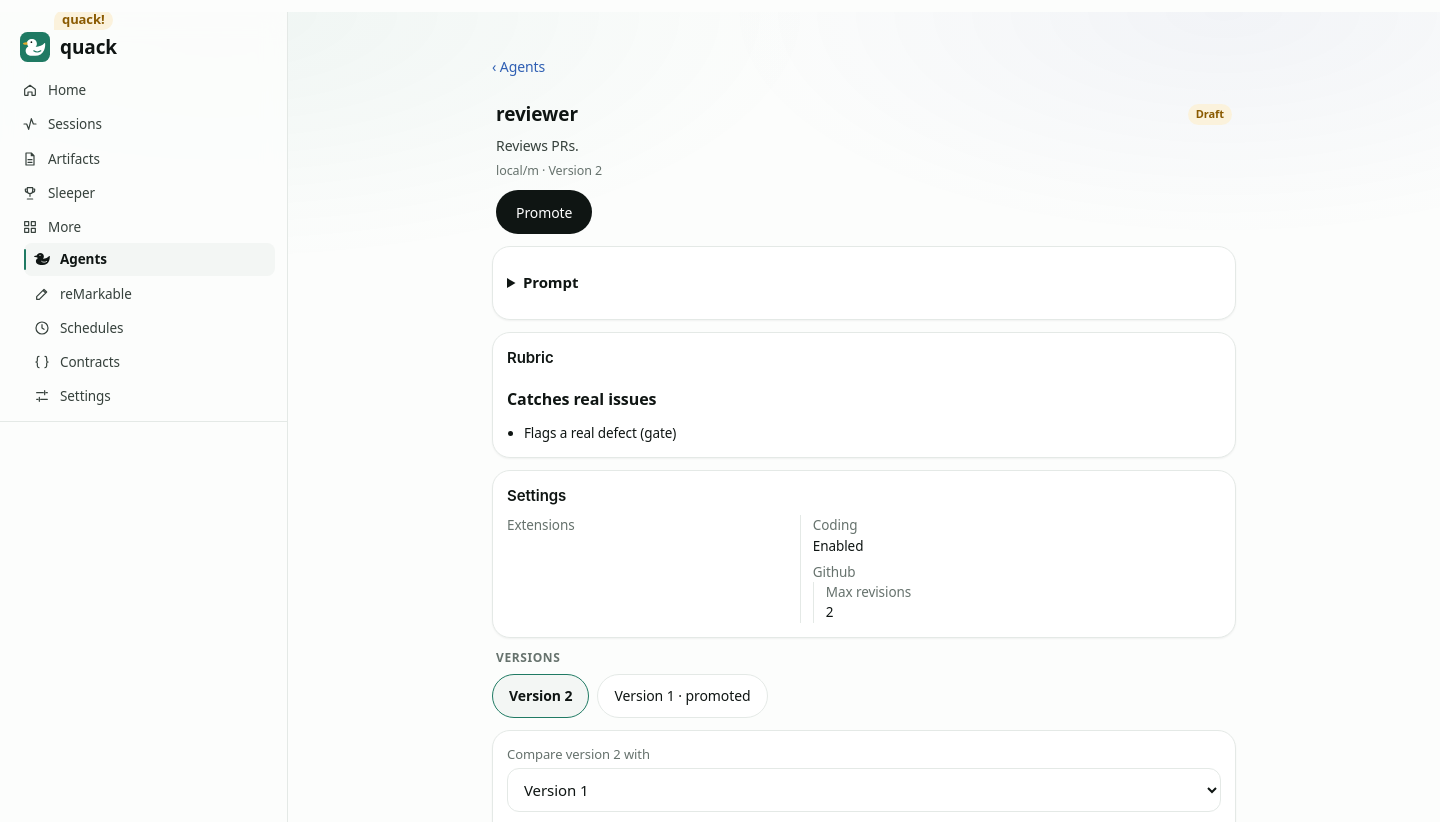
Scenario: the detail renders the prompt as markdown, the rubric as a list and settings as labelled fields
Click the heading "Prompt" at (551, 282), box [523, 272, 578, 292]
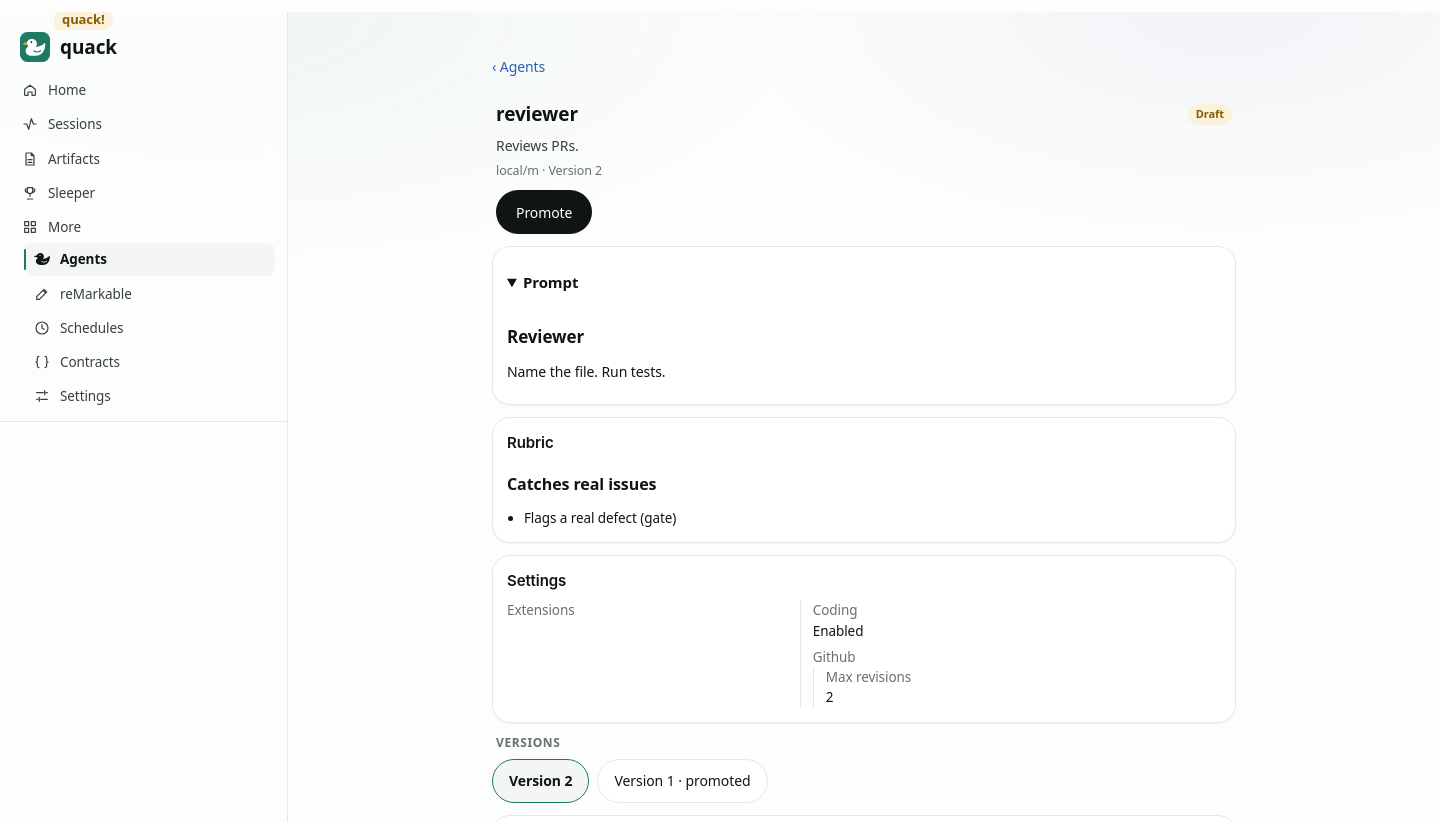
Expected: the list item "Flags a real defect (gate)" is shown, [524, 509, 676, 527]
Expected: the heading "Reviewer" is shown, [507, 325, 584, 348]
